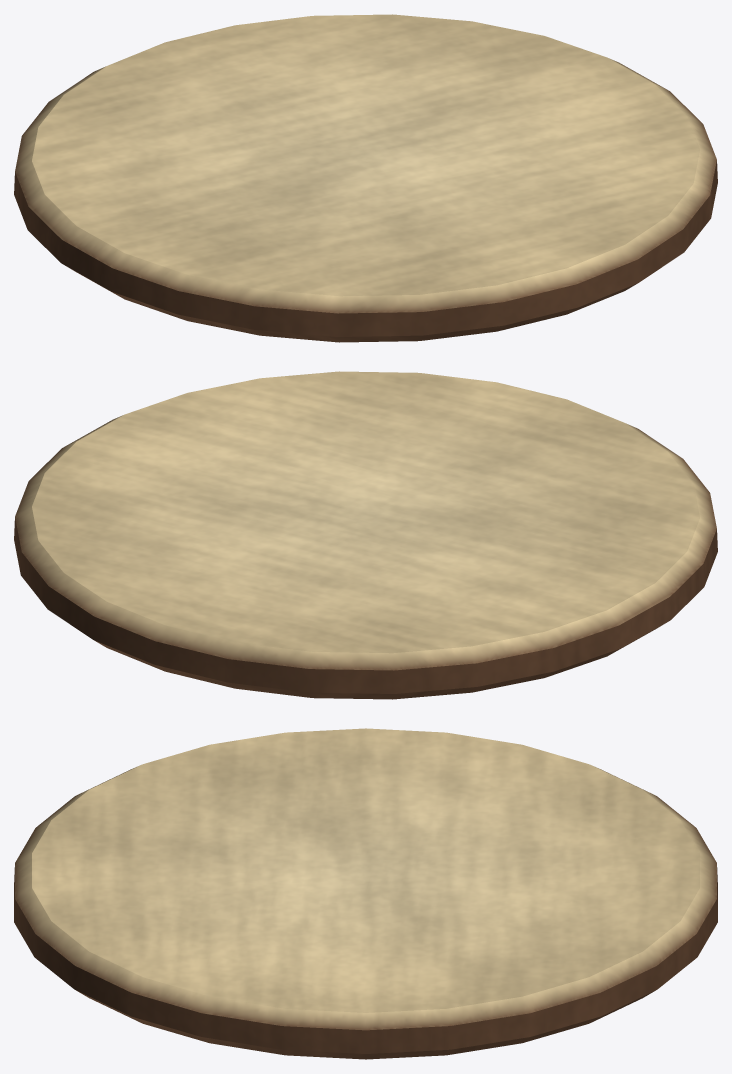
Rendered from pedestal_cap.glb.
3 views of the same model, one above another, from view 1: azimuth 30°, elevation 25°; view 2: azimuth 150°, elevation 25°; view 3: azimuth 270°, elevation 25° (orthographic).
Visible parts, largest first — view 1: Top; view 2: Top; view 3: Top.
Part boxes in pixels (bbox=[...]): Top: bbox=[14, 14, 717, 342]; Top: bbox=[14, 371, 717, 699]; Top: bbox=[14, 728, 717, 1059].
Size of the model in its own units: 1.38 by 0.1 by 1.37.
1 material, 1 textured.
